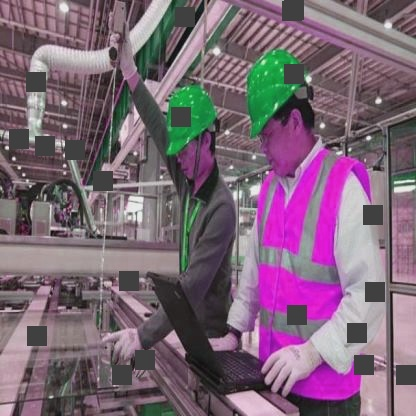blue: (240, 38, 317, 141), (163, 79, 221, 157)
vest: (248, 143, 384, 410)
